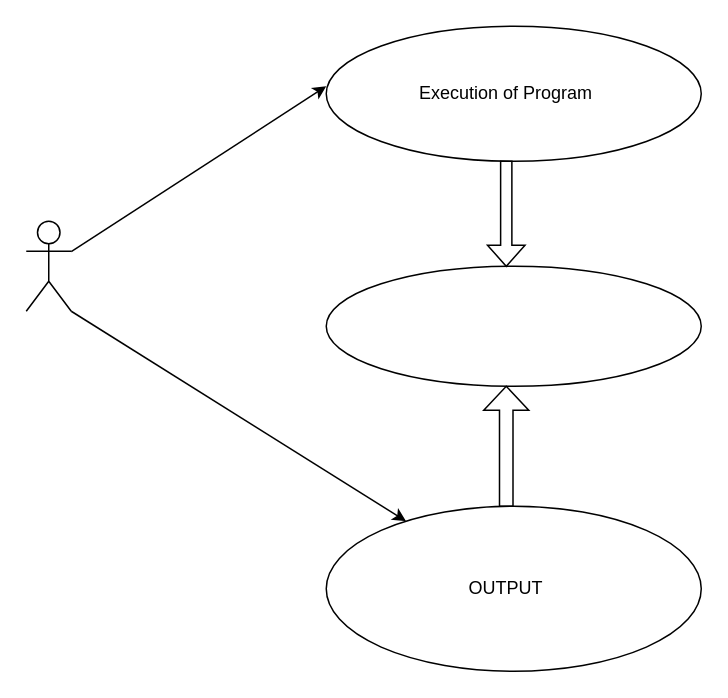
The diagram is 728 pixels wide and 698 high, and some of its shapes have lost their labels. The shapes that lost their labels are listed below. From the top down, each one's centre as x and y in pixels, then its label:
the point at 48,265: Actor
the point at 513,325: Processing of Algorithm
